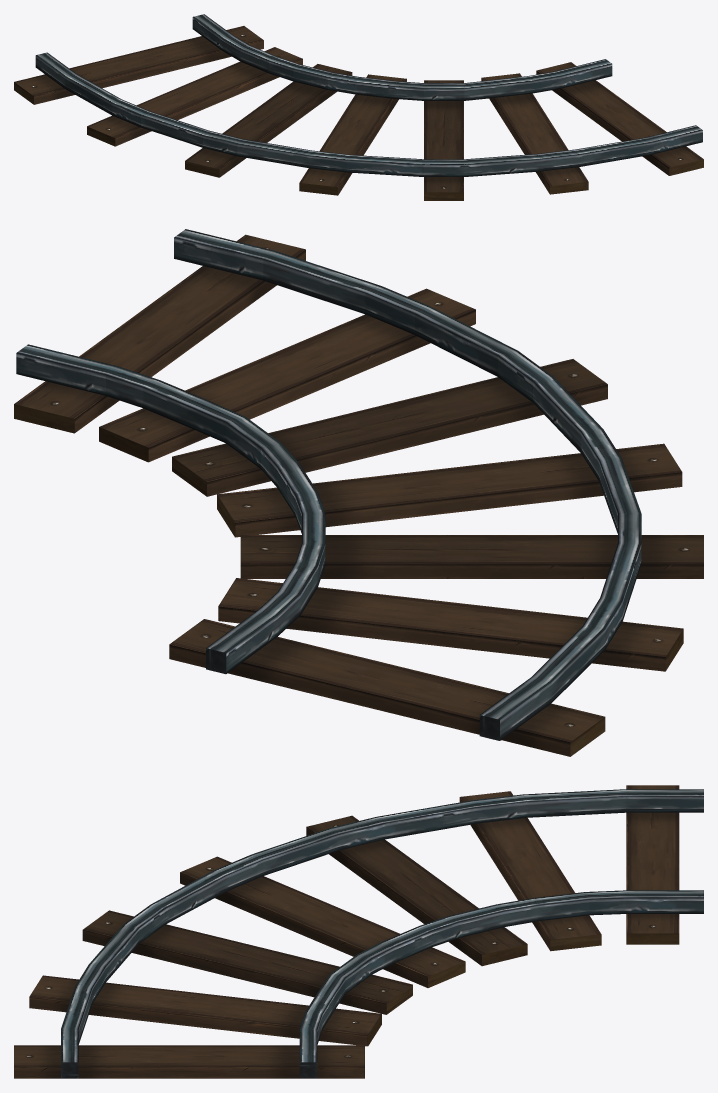
The model's file is rail7.FBX.
3 views of the same model, one above another, from view 1: azimuth 30°, elevation 25°; view 2: azimuth 150°, elevation 25°; view 3: azimuth 270°, elevation 25° (orthographic). The views are drawn at different scales.
Parts seen in each view (by area): view 1: rail7; view 2: rail7; view 3: rail7.
Boxes of the visible parts, <box> form: rail7: <box>14,14,703,200</box>; rail7: <box>14,229,703,756</box>; rail7: <box>14,785,703,1078</box>.
Bounding box in the file's own units: 236 × 10.19 × 235.
